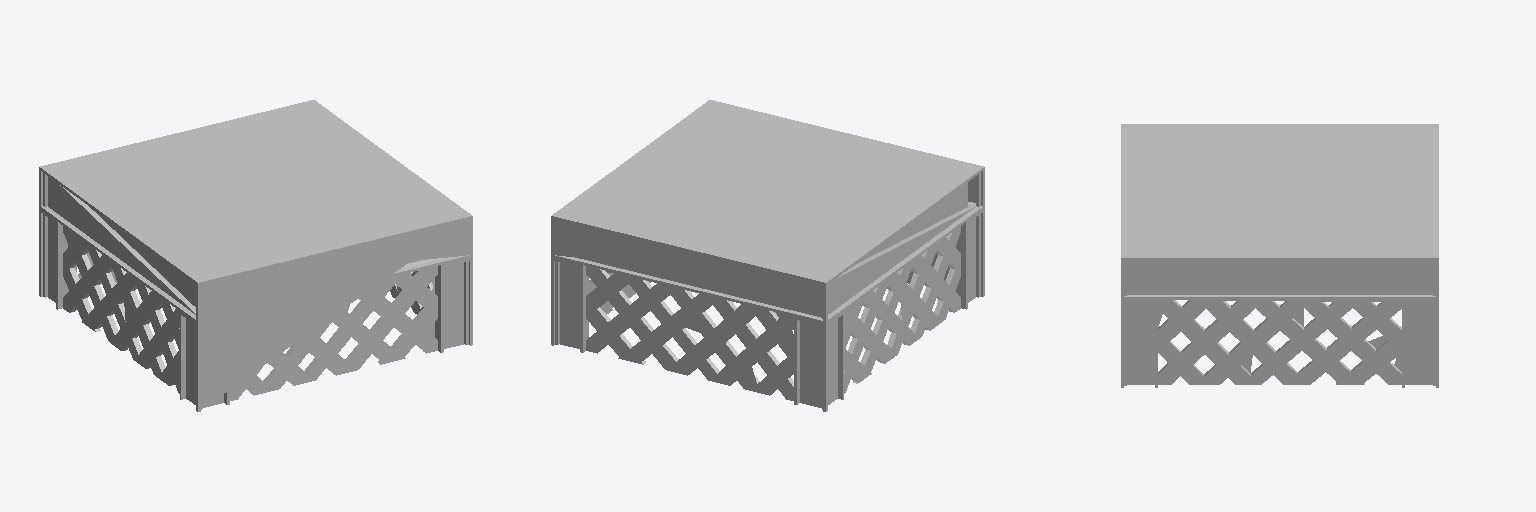
File: Half_Crate__118881_.obj
3 views of the same model, side by side, from view 1: azimuth 30°, elevation 25°; view 2: azimuth 150°, elevation 25°; view 3: azimuth 270°, elevation 25° (orthographic).
Parts seen in each view (by area): view 1: Half_Crate__118881__temp_Half_Crate__118881_.002; view 2: Half_Crate__118881__temp_Half_Crate__118881_.002; view 3: Half_Crate__118881__temp_Half_Crate__118881_.002.
Part boxes in pixels (left/top/right/bottom): Half_Crate__118881__temp_Half_Crate__118881_.002: left=39, top=100, right=472, bottom=411; Half_Crate__118881__temp_Half_Crate__118881_.002: left=551, top=100, right=984, bottom=411; Half_Crate__118881__temp_Half_Crate__118881_.002: left=1121, top=124, right=1438, bottom=387.
Size of the model in its own units: 0.3334 by 0.15 by 0.3334.